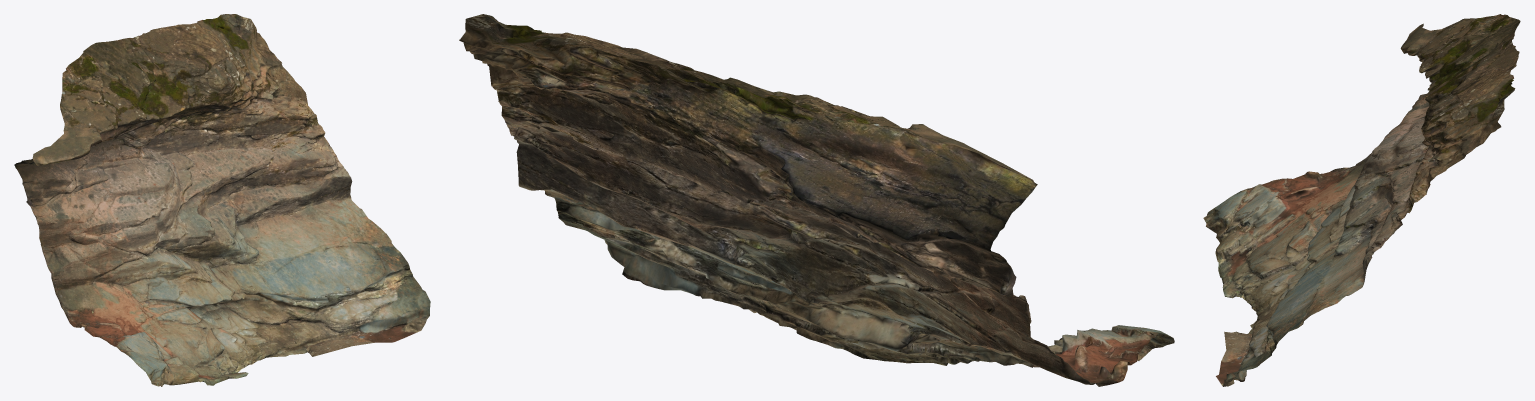
File: rock_face_01_lod1.glb
3 renders of one model, left to right at view 1: azimuth 30°, elevation 25°; view 2: azimuth 150°, elevation 25°; view 3: azimuth 270°, elevation 25°, orthographic. The views are drawn at different scales.
Parts seen in each view (by area): view 1: rock_face_01; view 2: rock_face_01; view 3: rock_face_01.
Boxes of the visible parts, x1,y1,x2,y2 form: rock_face_01: (14,14,430,386); rock_face_01: (459,14,1174,386); rock_face_01: (1203,14,1520,386).
Size of the model in its own units: 4.95 by 3.56 by 3.83.
1 material, 1 textured.
